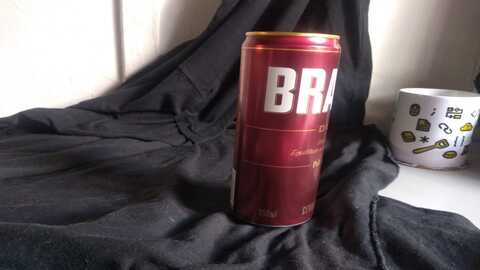duplo_malte: (231, 35, 341, 228)
